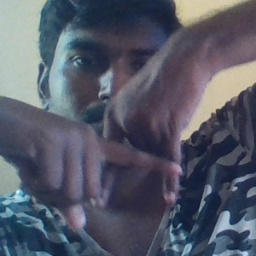H: (84, 95, 198, 219)
